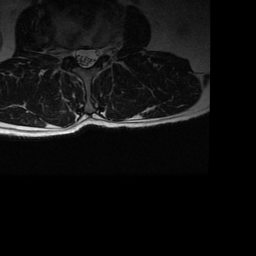CCS_normal: (82, 42, 92, 73)
LFS_normal: (99, 42, 106, 61)
LLS_normal: (90, 43, 99, 67)
RFS_stenosis: (66, 45, 74, 63)
RLS_normal: (73, 45, 82, 66)
